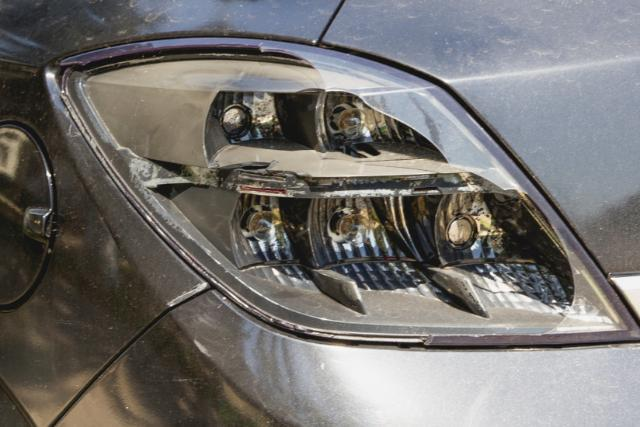Light: (87, 46, 580, 338)
